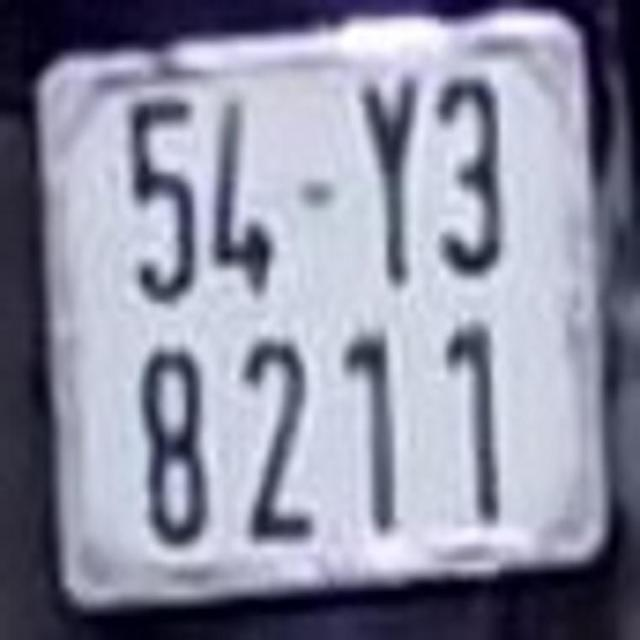1: (434, 316, 516, 526), (336, 324, 414, 534)
2: (236, 328, 312, 546)
3: (428, 66, 504, 282)
4: (202, 94, 280, 302)
5: (121, 95, 202, 304)
8: (134, 332, 215, 551)
Y: (350, 69, 423, 282)
